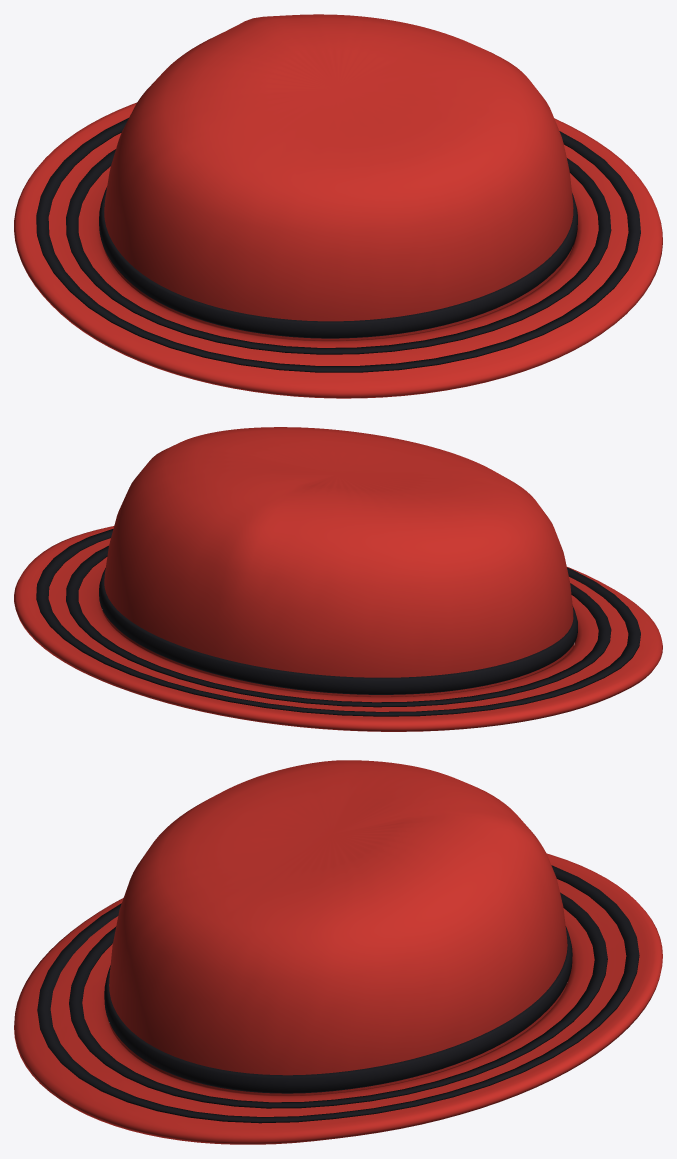
File: hw_panama.glb
The picture shows the model from 3 angles, top to bottom: view 1: azimuth 30°, elevation 25°; view 2: azimuth 150°, elevation 25°; view 3: azimuth 270°, elevation 25°; orthographic projection. The views are drawn at different scales.
Parts seen in each view (by area): view 1: hw_panama, hw_panama_brim, hw_panama@stripes_s, hw_panama_band; view 2: hw_panama, hw_panama_brim, hw_panama@stripes_s, hw_panama_band; view 3: hw_panama, hw_panama_brim, hw_panama@stripes_s, hw_panama_band.
Part boxes in pixels (<box>): hw_panama: <box>104,14,573,340</box>; hw_panama_brim: <box>14,102,662,398</box>; hw_panama@stripes_s: <box>36,118,640,372</box>; hw_panama_band: <box>99,186,577,338</box>; hw_panama: <box>103,427,574,696</box>; hw_panama_brim: <box>14,526,662,731</box>; hw_panama@stripes_s: <box>36,529,640,716</box>; hw_panama_band: <box>99,568,577,694</box>; hw_panama: <box>109,760,567,1095</box>; hw_panama_brim: <box>14,853,662,1144</box>; hw_panama@stripes_s: <box>37,865,639,1123</box>; hw_panama_band: <box>104,926,572,1093</box>.
Size of the model in its own units: 1.11 by 0.3764 by 1.03.
